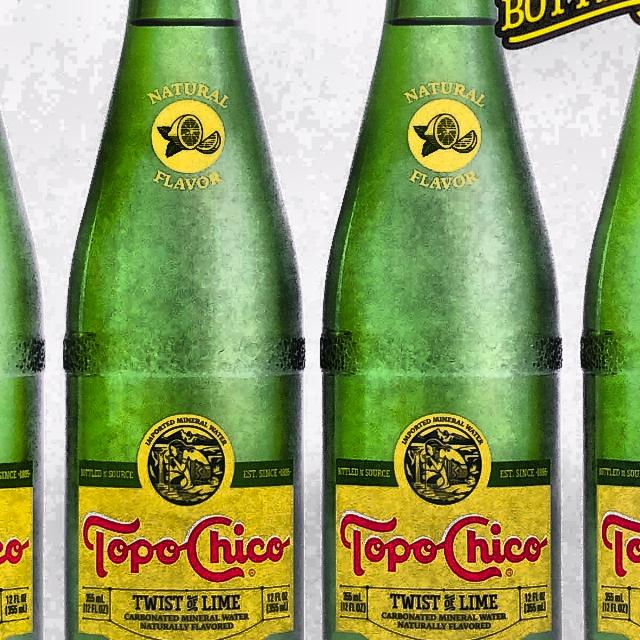glass: (60, 0, 307, 640), (319, 0, 564, 640)
